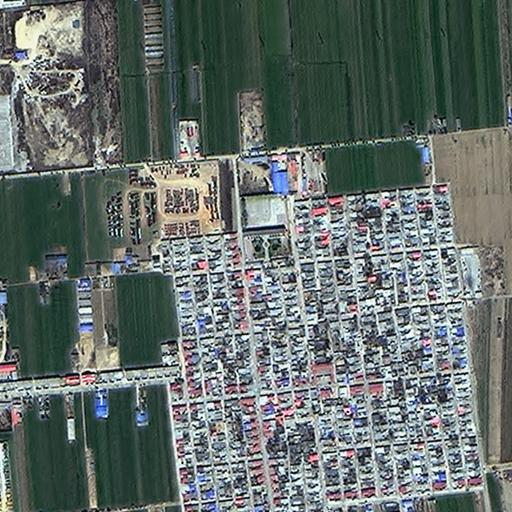school: (243, 193, 288, 262)
